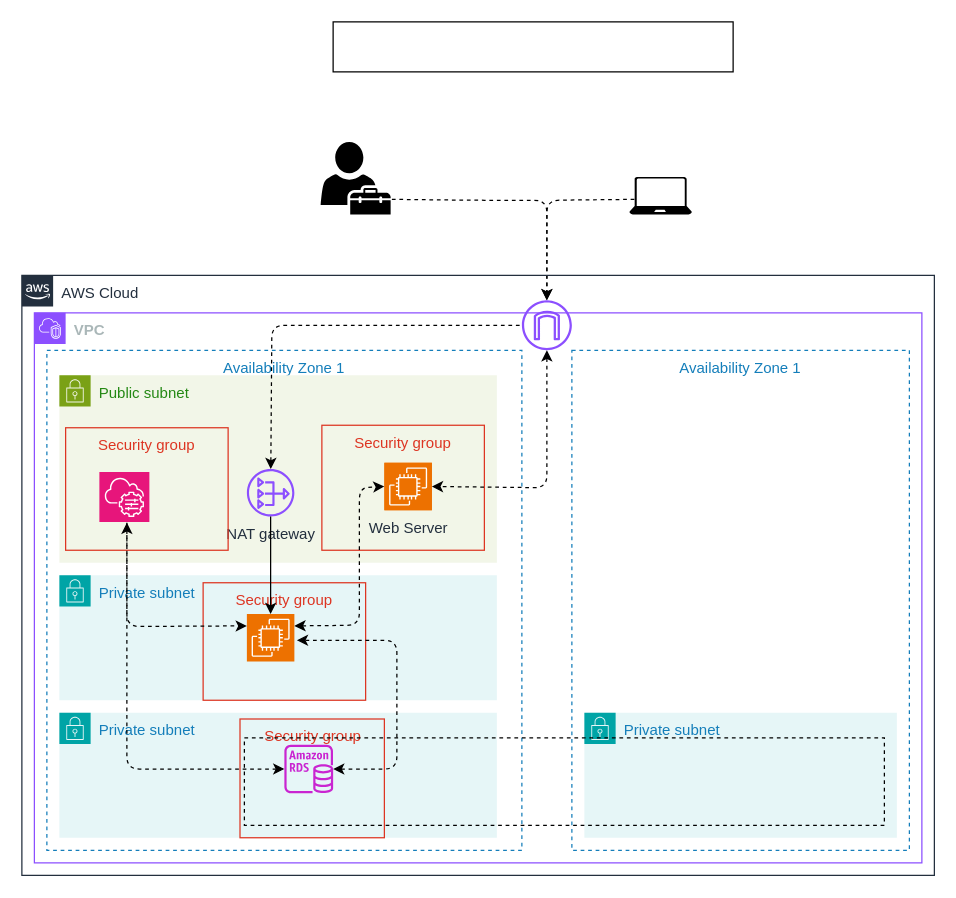
Some shapes in this 956 by 898 pixel diagram are drawn without their labels. The box of each missing label's shape, as (x1, y1, x2, y2) in pixels:
Administrators: (320, 141, 390, 214)
App Server: (246, 613, 294, 662)
Bastion Host: (98, 471, 149, 522)
Client: (629, 176, 691, 214)
Database Server Primary: (284, 744, 332, 793)
Subnet group: (243, 736, 884, 825)
Yvan SAF | AWS 3-Tier Architecture: (332, 21, 733, 72)
